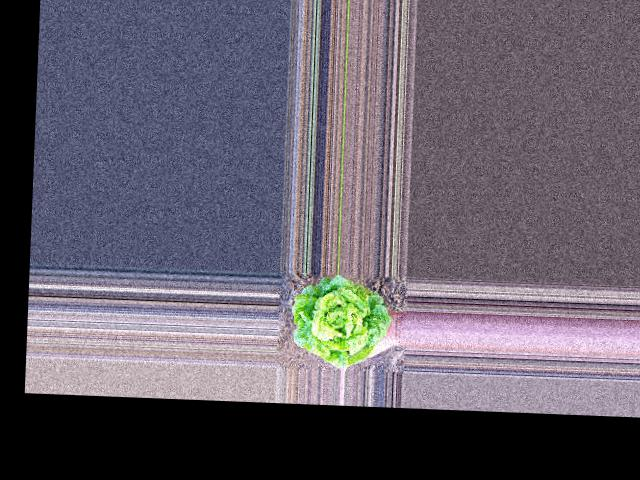lettuce: (288, 275, 385, 367)
